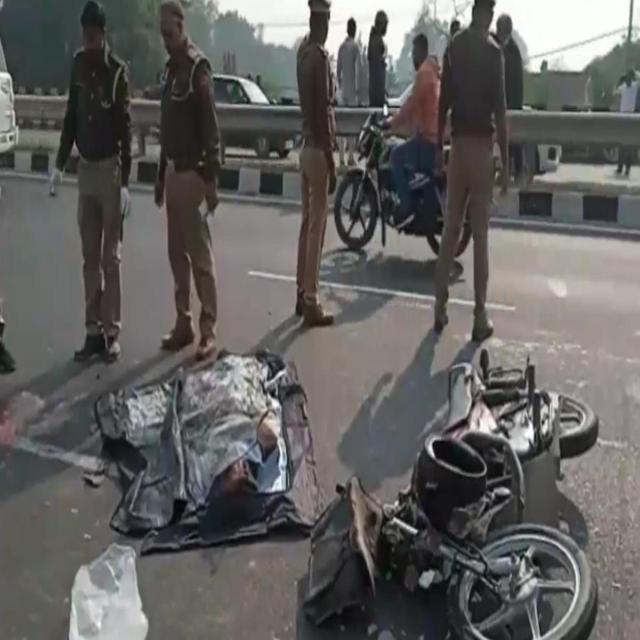accident: (305, 353, 598, 638)
motorcycle: (334, 33, 445, 252)
